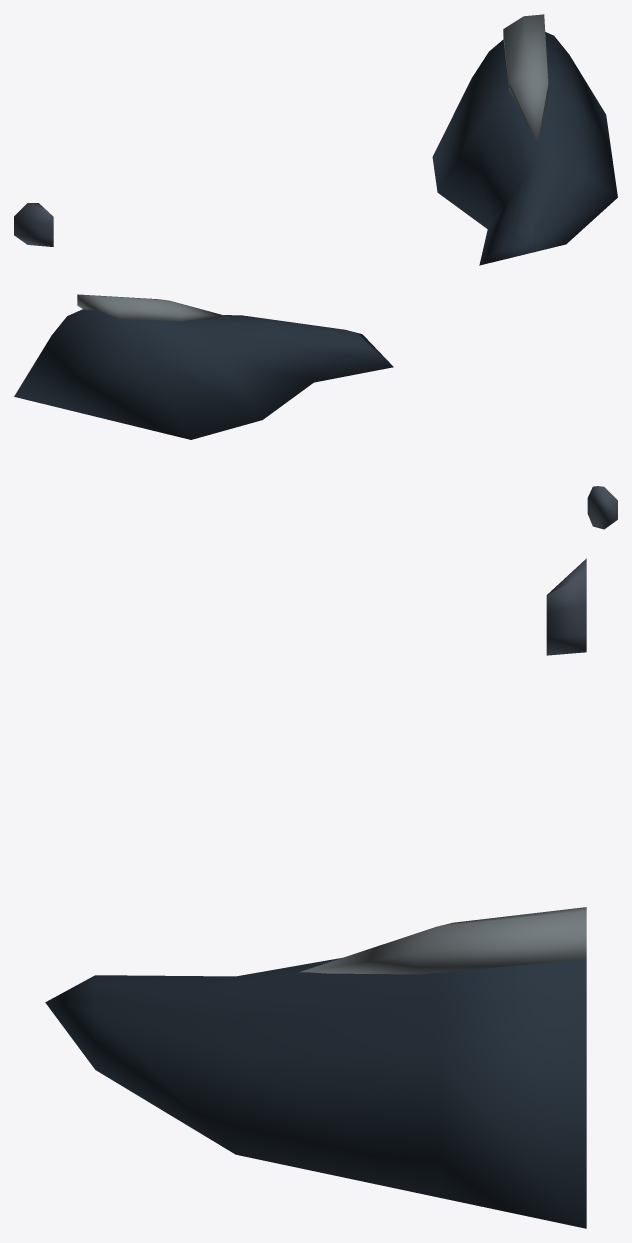
File: newshn-39-f2.glb
3 views of the same model, one above another, from view 1: azimuth 30°, elevation 25°; view 2: azimuth 150°, elevation 25°; view 3: azimuth 270°, elevation 25° (orthographic). The views are drawn at different scales.
Visible parts, largest first — view 1: newshn-39-f2; view 2: newshn-39-f2; view 3: newshn-39-f2.
Part boxes in pixels (x1=…): newshn-39-f2: x1=14, y1=14, x2=617, y2=265; newshn-39-f2: x1=14, y1=294, x2=617, y2=529; newshn-39-f2: x1=45, y1=558, x2=586, y2=1228.
Size of the model in its own units: 1.14 by 0.2175 by 0.45.
